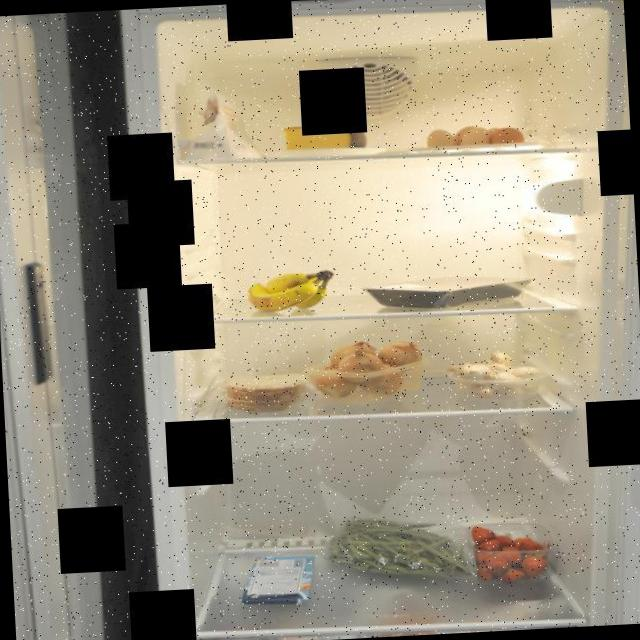Cebolla: (304, 336, 429, 404)
Champiñones: (446, 346, 550, 401)
Huevos: (421, 119, 528, 156)
Plátano: (242, 266, 340, 317)
Queso: (278, 120, 372, 157)
